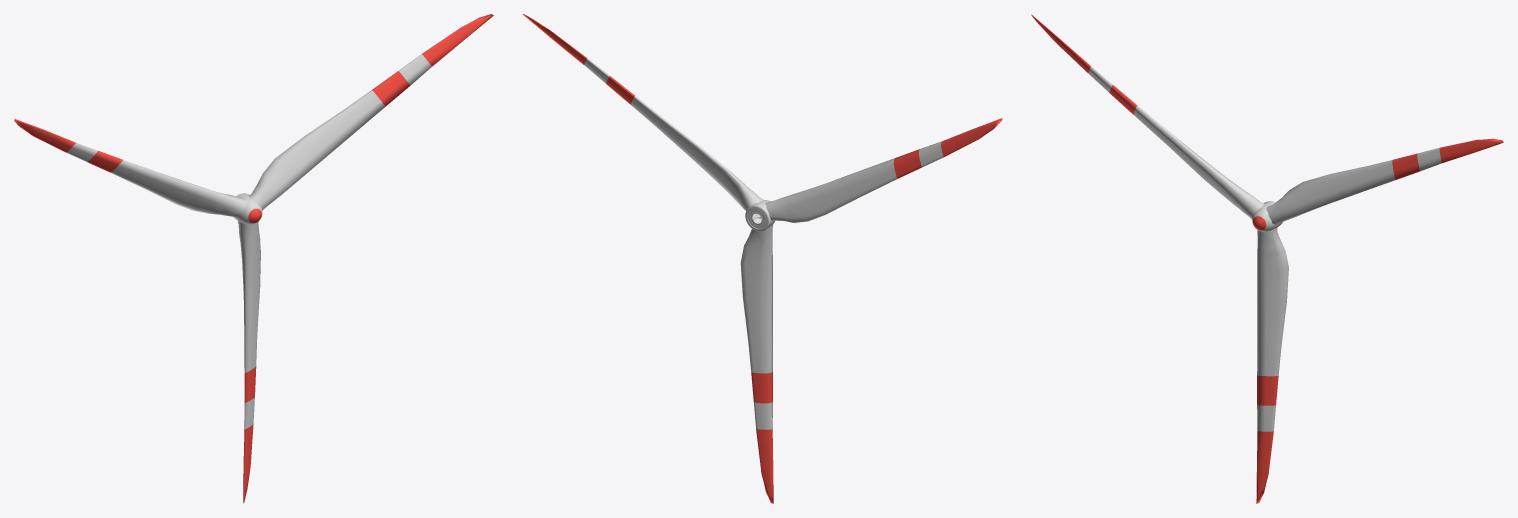
Rendered from blades.glb.
The picture shows the model from 3 angles, left to right: view 1: azimuth 30°, elevation 25°; view 2: azimuth 150°, elevation 25°; view 3: azimuth 330°, elevation 25°; orthographic projection.
Parts seen in each view (by area): view 1: Cube; view 2: Cube; view 3: Cube.
Boxes of the visible parts, bbox=[...] form: Cube: bbox=[14, 14, 493, 503]; Cube: bbox=[523, 14, 1002, 503]; Cube: bbox=[1031, 14, 1503, 503].
Bounding box in the file's own units: 115 × 101 × 6.49.
